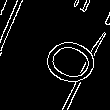O_NW: (16, 23, 94, 87)
